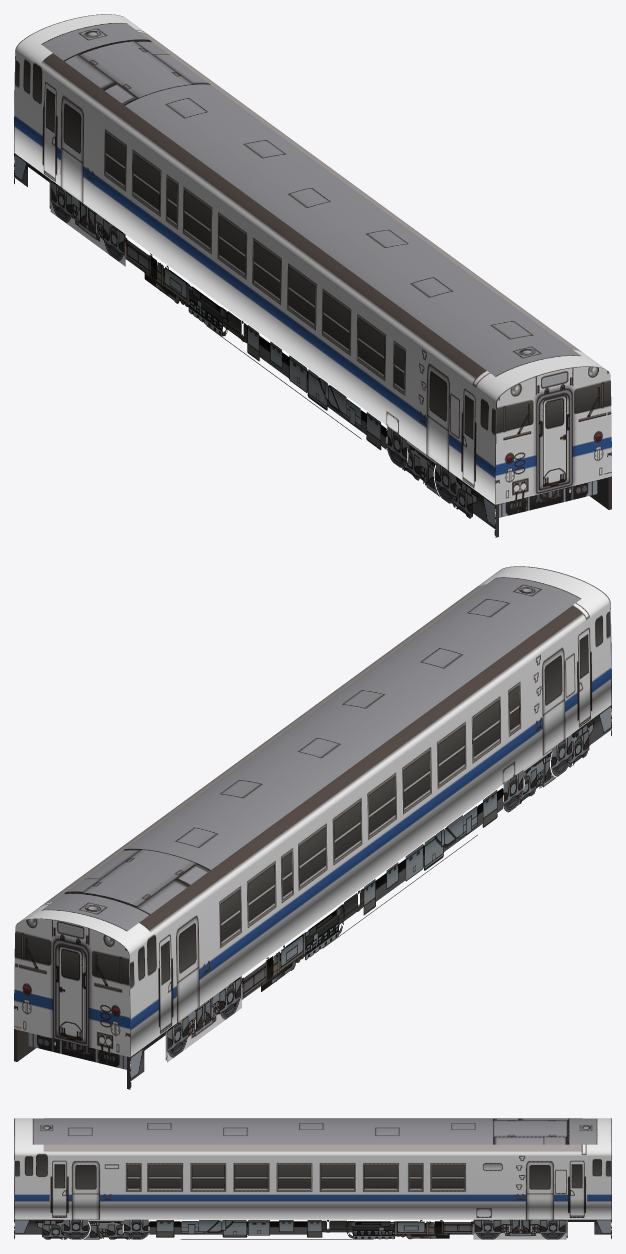
File: car1.glb
3 views of the same model, one above another, from view 1: azimuth 30°, elevation 25°; view 2: azimuth 150°, elevation 25°; view 3: azimuth 270°, elevation 25° (orthographic). The views are drawn at different scales.
Parts seen in each view (by area): view 1: kiha40-kyusyu-car1; view 2: kiha40-kyusyu-car1; view 3: kiha40-kyusyu-car1.
Part boxes in pixels (x1=…): kiha40-kyusyu-car1: x1=14, y1=14, x2=611, y2=537; kiha40-kyusyu-car1: x1=14, y1=566, x2=611, y2=1089; kiha40-kyusyu-car1: x1=14, y1=1118, x2=611, y2=1239.
Size of the model in its own units: 2.9 by 3.62 by 20.8.
Materials: 9 (8 with a texture image).
